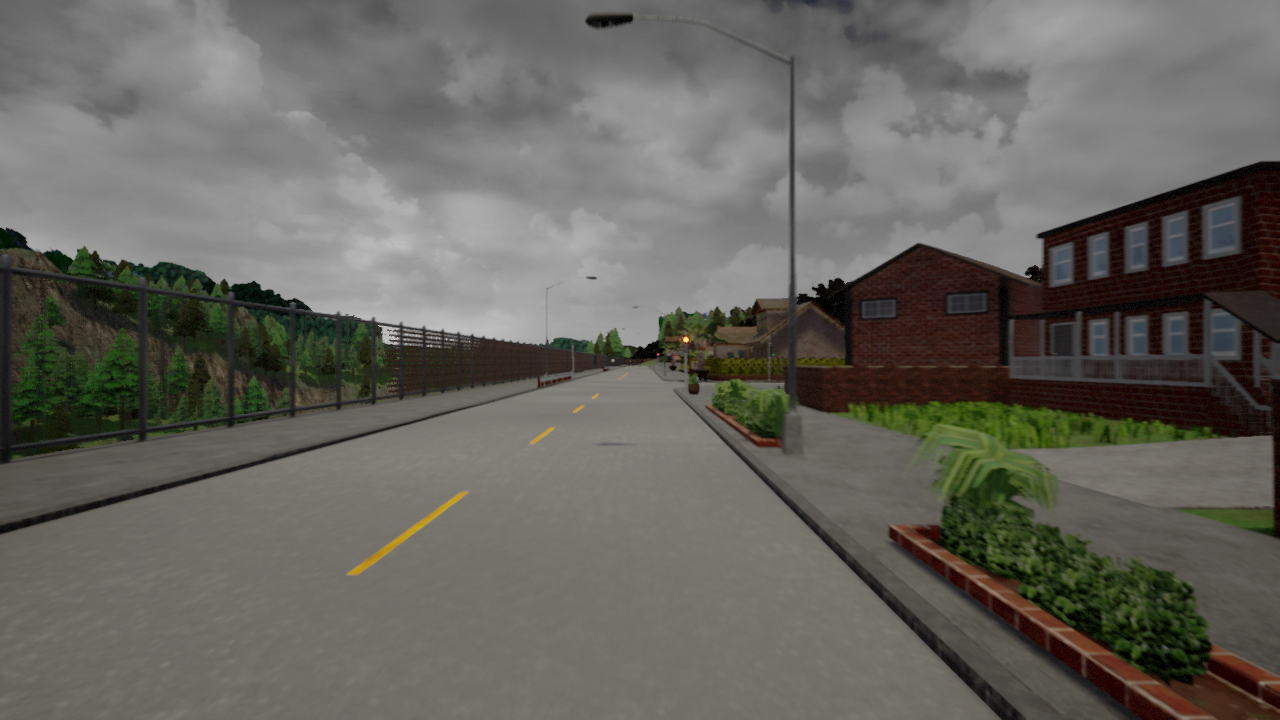red: (682, 335, 690, 354)
